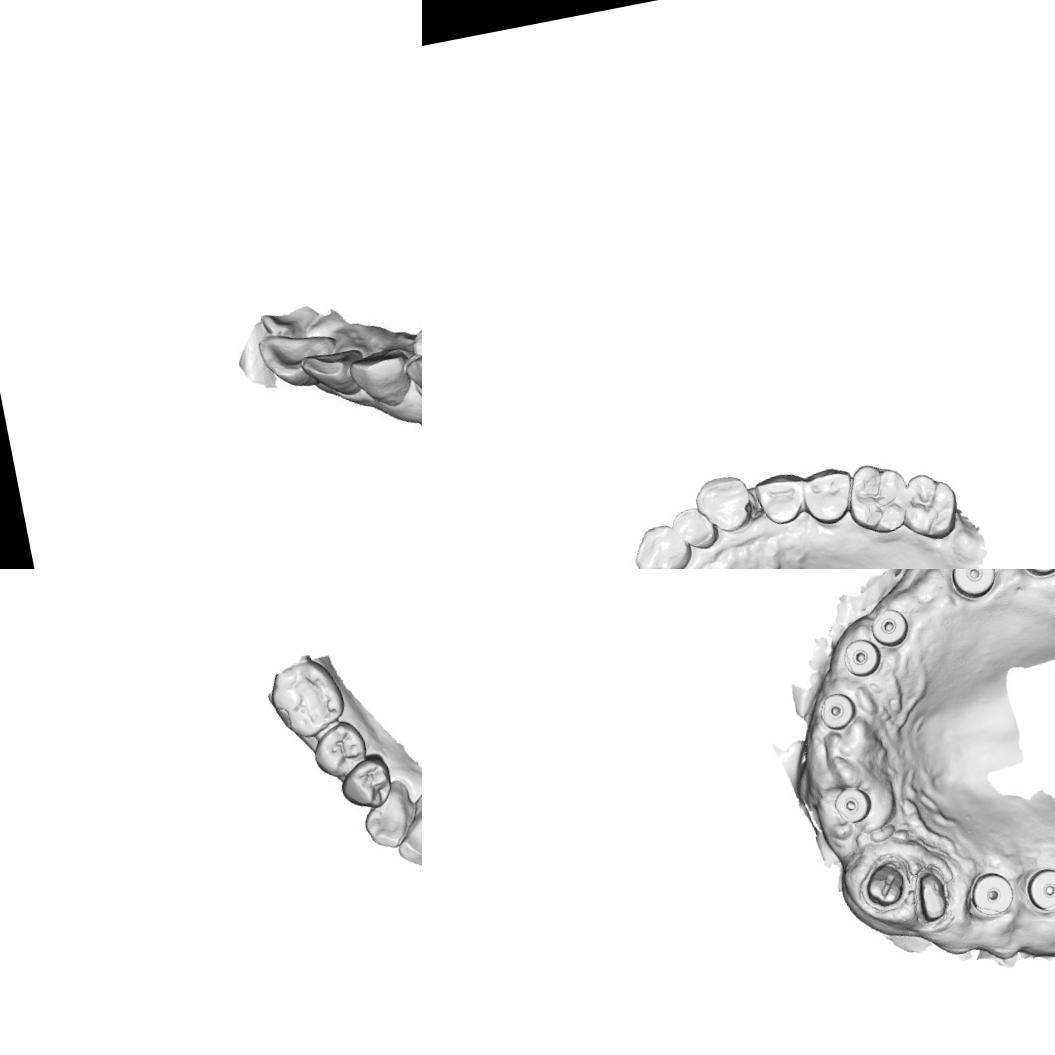canine: (356, 776, 419, 854), (348, 344, 416, 413), (690, 470, 757, 538)
crown: (854, 852, 916, 916), (905, 862, 955, 930)
implant: (963, 867, 1017, 920), (838, 634, 884, 681), (866, 604, 912, 650), (944, 569, 1001, 606), (830, 781, 875, 826), (816, 688, 860, 734), (1021, 861, 1055, 916)
incisor: (251, 316, 339, 390), (628, 519, 695, 569), (303, 346, 361, 399), (668, 502, 720, 554), (389, 795, 422, 873)
molar: (264, 653, 349, 742), (840, 456, 914, 540), (895, 466, 964, 545)
premolar: (306, 716, 371, 782), (334, 751, 396, 814), (798, 463, 858, 528), (751, 468, 809, 529), (398, 320, 422, 401)
